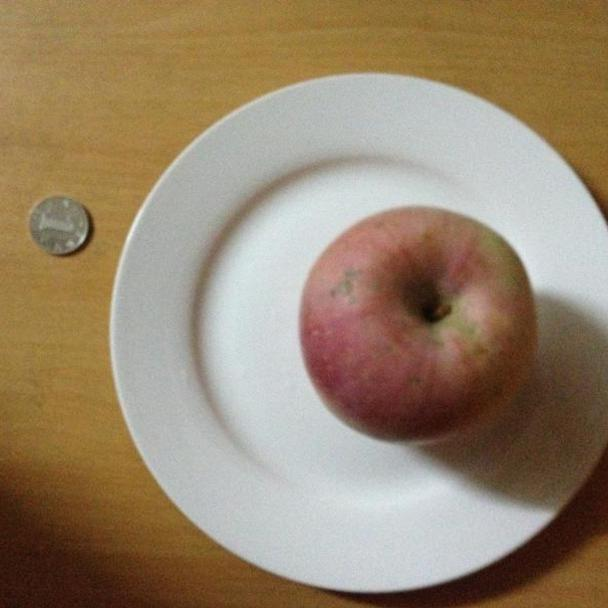apple: (296, 206, 540, 443)
